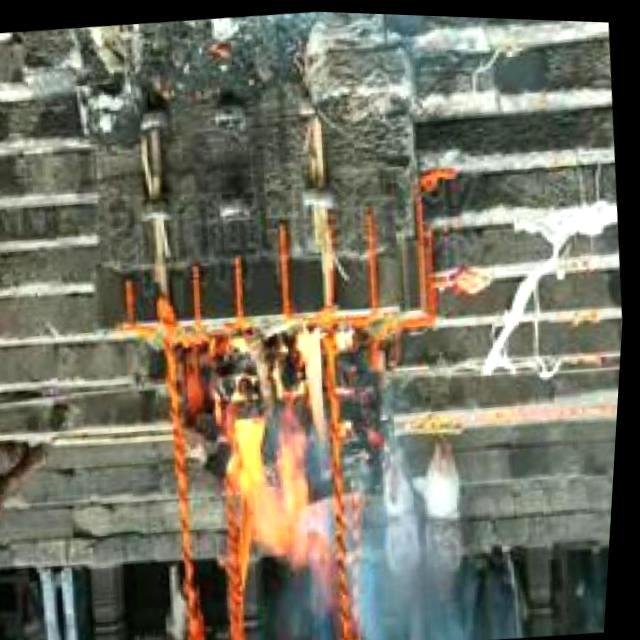fire: (215, 314, 362, 586)
